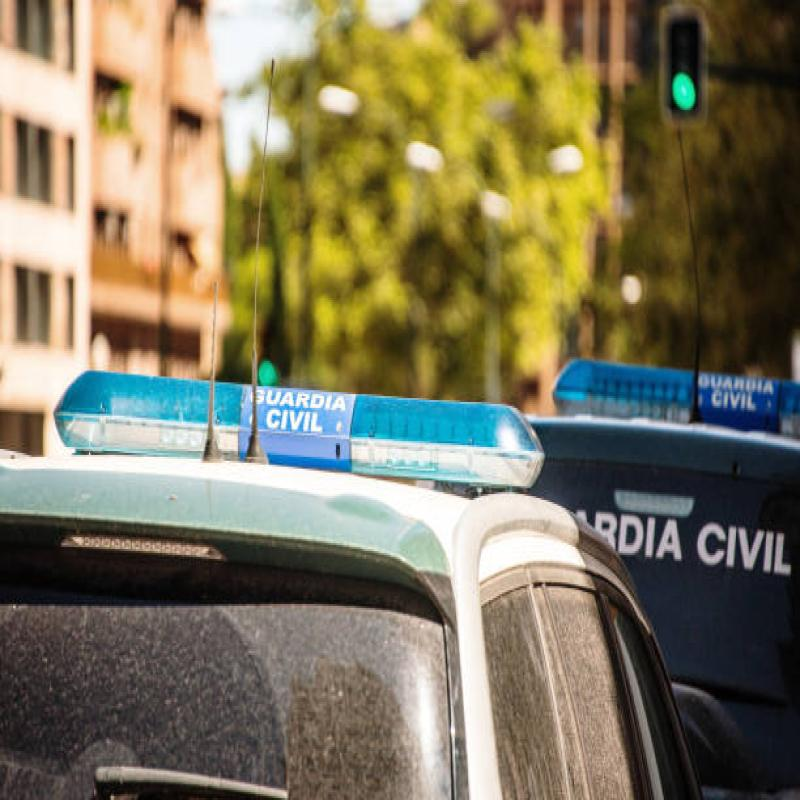AmbulanceSiren: (56, 352, 554, 497)
